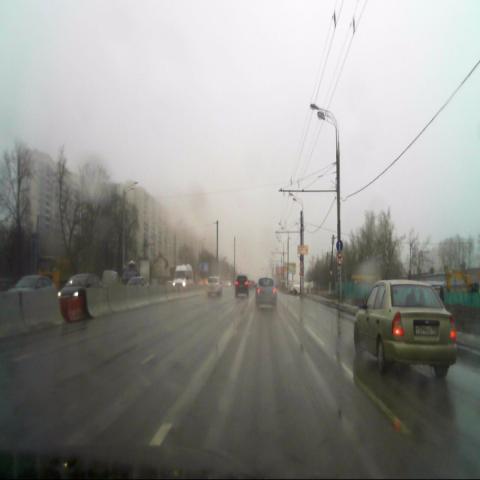3_18: (336, 253, 344, 264)
4_1_1: (336, 240, 343, 252)
